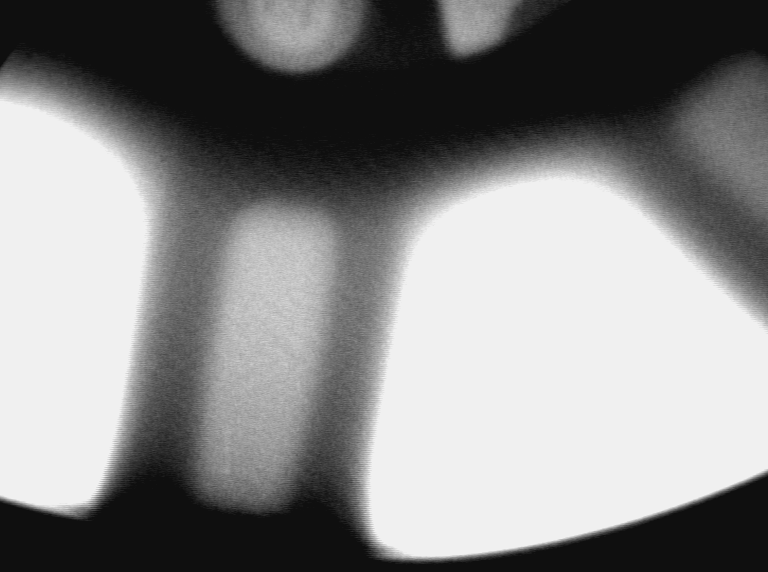defect: (215, 418, 239, 484)
